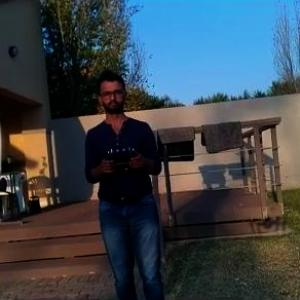follow: (82, 65, 169, 299)
